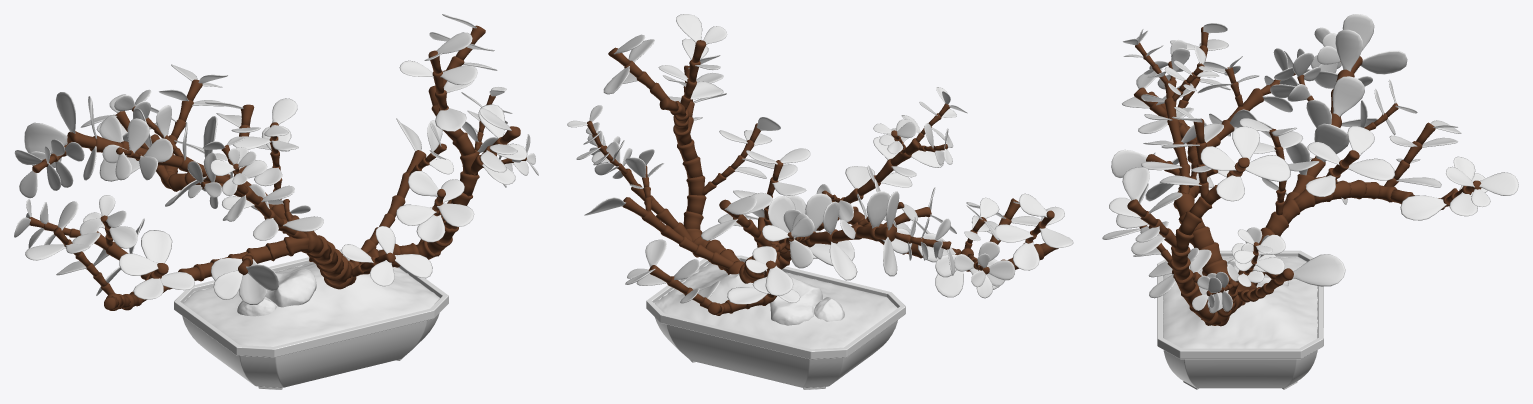
Rendered from bonsai.fbx.
3 renders of one model, left to right at view 1: azimuth 30°, elevation 25°; view 2: azimuth 150°, elevation 25°; view 3: azimuth 270°, elevation 25°, orthographic. The views are drawn at different scales.
Visible parts, largest first — view 1: Bonsai tree, Plane.001, Cylinder.035, rock, Cylinder.011, Cylinder.009, Cube.119, Cube.160, Cylinder.012, Cube.159, Cube.030, Cube.019 (+27 smaller); view 2: Bonsai tree, Plane.001, Cylinder.035, rock, Cylinder.009, Cylinder.011, Cylinder.012, Cylinder.010, Cylinder.021, Cylinder.017, Cylinder.018, Cube.120 (+18 smaller); view 3: Plane.001, Cylinder.035, Bonsai tree, Cube.153, Cylinder.012, Cube.121, Cylinder.011, Cube.059, Cube.037, Cube.119, Cube.117, Cube.170 (+27 smaller).
Boxes of the visible parts, x1,y1,x2,y2 form: Bonsai tree: (174,248,448,389); Plane.001: (182,255,439,346); Cylinder.035: (104,85,479,310); rock: (265,269,316,307); Cylinder.011: (67,131,241,197); Cylinder.009: (361,150,426,252); Cube.119: (24,122,67,154); Cube.160: (141,230,172,263); Cylinder.012: (236,184,307,238); Cube.159: (119,253,158,275); Cube.030: (395,254,432,278); Cube.019: (437,203,474,226); Bonsai tree: (646,255,905,389); Plane.001: (654,263,897,349); Cylinder.035: (659,97,1058,315); rock: (769,276,822,325); Cylinder.009: (622,197,733,269); Cylinder.011: (777,224,896,253); Cylinder.012: (841,138,920,203); Cylinder.010: (621,168,691,240); Cylinder.021: (608,47,670,101); Cylinder.017: (680,40,706,111); Cylinder.018: (702,123,760,195); Cube.120: (829,241,857,280); Plane.001: (1163,257,1317,348); Cylinder.035: (1148,91,1458,326); Bonsai tree: (1157,250,1323,389); Cube.153: (1293,254,1345,286); Cylinder.012: (1164,80,1190,193); Cube.121: (1332,76,1364,116); Cylinder.011: (1284,56,1362,203); Cube.059: (1400,195,1446,220); Cube.037: (1245,155,1290,181); Cube.119: (1360,50,1407,74); Cube.117: (1335,29,1362,71); Cube.170: (1348,158,1394,180).
Size of the model in its own units: 58.62 by 33.88 by 42.89.
